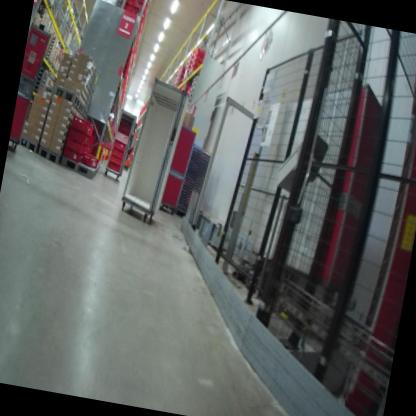pallet: (58, 155, 102, 181), (50, 81, 82, 112), (32, 142, 66, 167), (16, 134, 39, 155), (37, 0, 55, 12), (76, 99, 86, 115), (37, 66, 48, 78), (36, 72, 47, 81), (35, 77, 46, 86), (33, 80, 45, 88), (43, 57, 52, 67), (82, 105, 88, 117), (32, 84, 40, 92), (52, 66, 57, 76), (48, 63, 54, 71), (42, 0, 51, 5)
pallet_truck: (120, 118, 140, 178)
small_load_carrier: (61, 131, 87, 155), (61, 123, 90, 144), (67, 114, 92, 135), (61, 144, 84, 162), (81, 151, 102, 170), (110, 143, 126, 160), (106, 158, 121, 176), (113, 137, 127, 153), (107, 152, 124, 165)
